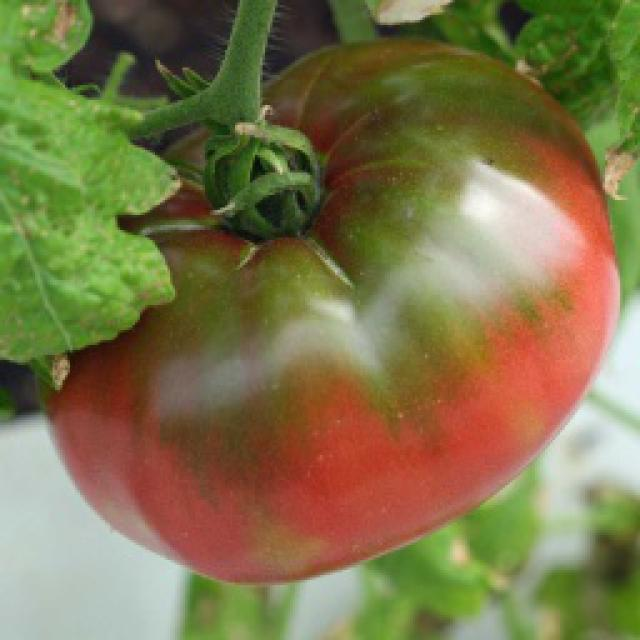tomato: (44, 42, 617, 583)
